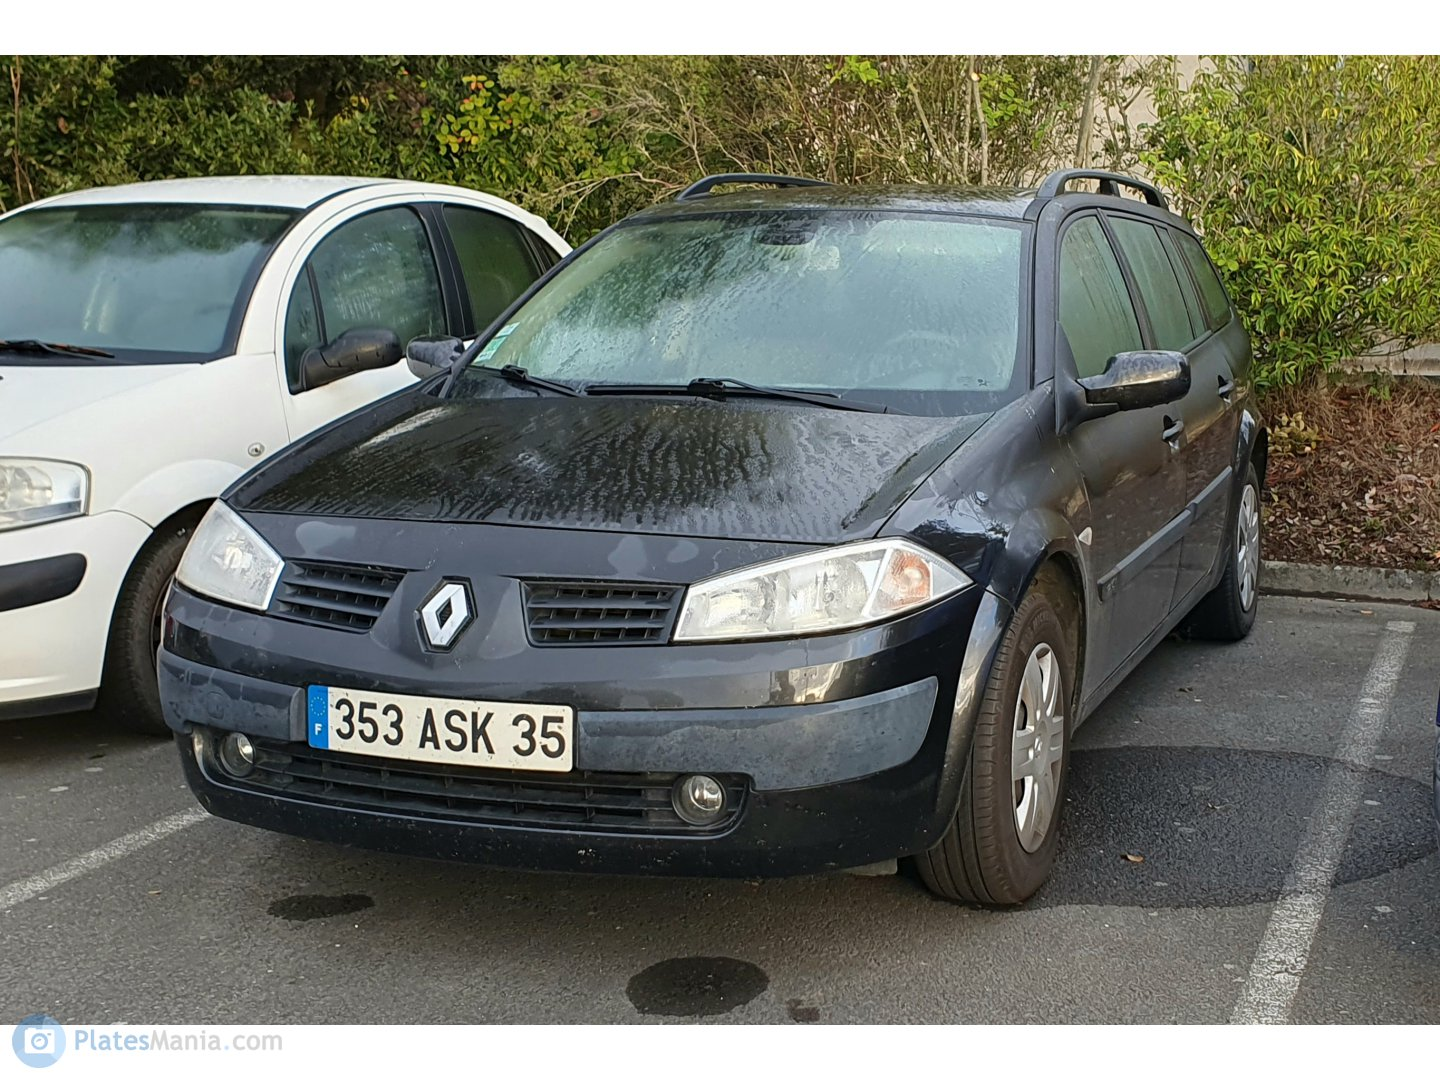licence plate: (304, 675, 584, 778)
